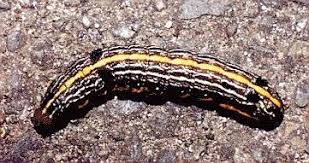Armyworm: (31, 35, 285, 138)
